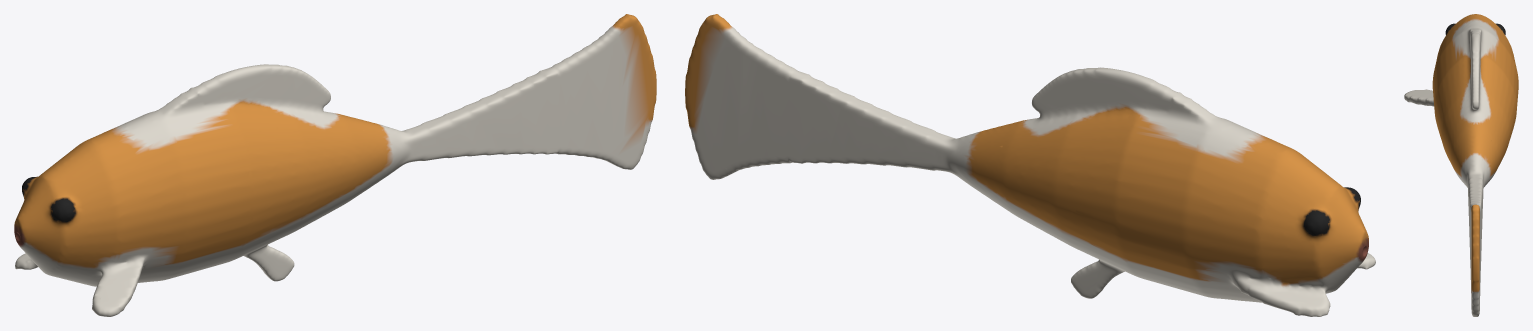
The model's file is goldfish.glb.
The picture shows the model from 3 angles, left to right: view 1: azimuth 30°, elevation 25°; view 2: azimuth 150°, elevation 25°; view 3: azimuth 270°, elevation 25°; orthographic projection. The views are drawn at different scales.
Parts seen in each view (by area): view 1: Fish; view 2: Fish; view 3: Fish.
Boxes of the visible parts, x1,y1,x2,y2 form: Fish: (14,14,656,316); Fish: (685,14,1375,316); Fish: (1404,14,1518,316).
Size of the model in its own units: 0.8208 by 0.2712 by 0.1773.
